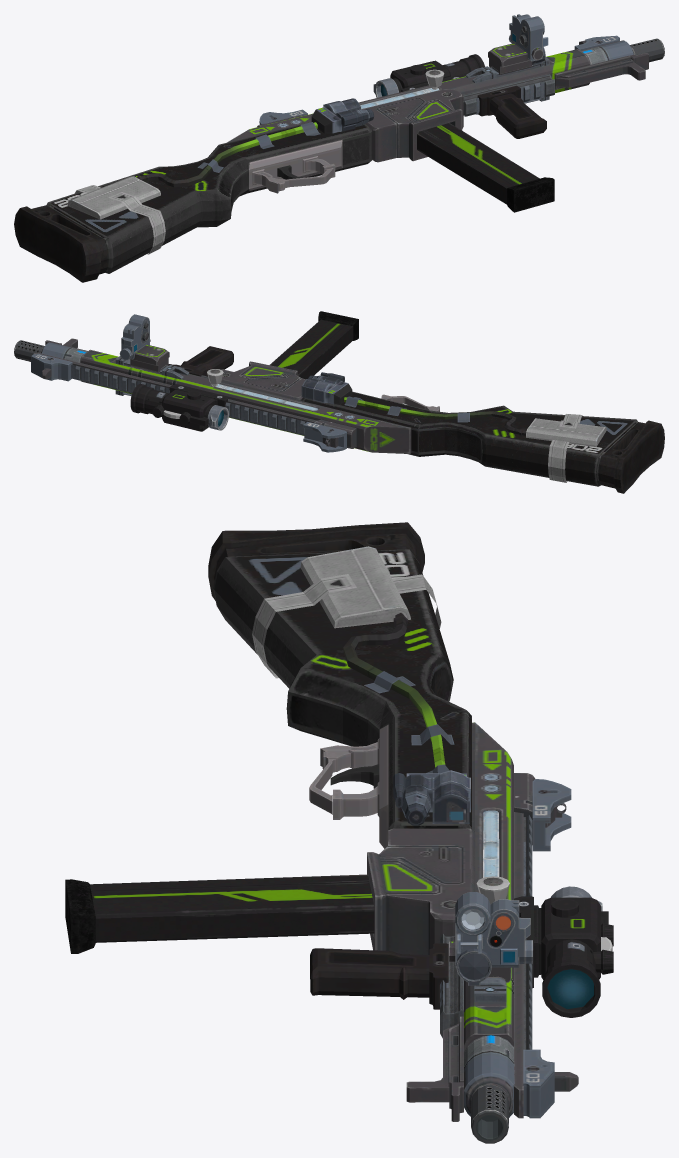
3 views of the same model, one above another, from view 1: azimuth 30°, elevation 25°; view 2: azimuth 150°, elevation 25°; view 3: azimuth 270°, elevation 25° (orthographic). The views are drawn at different scales.
Parts seen in each view (by area): view 1: wp01d_a001a_sm.mo, wp01d_magazine001a_sm.mo, wp01d_attach001a_sm.mo, wp01d_scope001a_sm.mo, wp01d_muzzle001a_sm.mo; view 2: wp01d_a001a_sm.mo, wp01d_scope001a_sm.mo, wp01d_magazine001a_sm.mo, wp01d_attach001a_sm.mo, wp01d_muzzle001a_sm.mo; view 3: wp01d_a001a_sm.mo, wp01d_magazine001a_sm.mo, wp01d_scope001a_sm.mo, wp01d_attach001a_sm.mo, wp01d_muzzle001a_sm.mo.
Part boxes in pixels (x1,y1,x2,y2): wp01d_a001a_sm.mo: [14, 35, 648, 282]; wp01d_magazine001a_sm.mo: [417, 123, 554, 212]; wp01d_attach001a_sm.mo: [488, 14, 548, 74]; wp01d_scope001a_sm.mo: [373, 54, 484, 97]; wp01d_muzzle001a_sm.mo: [630, 38, 664, 62]; wp01d_a001a_sm.mo: [31, 338, 664, 493]; wp01d_scope001a_sm.mo: [130, 383, 228, 431]; wp01d_magazine001a_sm.mo: [269, 311, 358, 379]; wp01d_attach001a_sm.mo: [119, 314, 169, 372]; wp01d_muzzle001a_sm.mo: [14, 340, 44, 361]; wp01d_a001a_sm.mo: [208, 522, 578, 1121]; wp01d_magazine001a_sm.mo: [65, 874, 374, 953]; wp01d_scope001a_sm.mo: [514, 886, 613, 1017]; wp01d_attach001a_sm.mo: [449, 892, 532, 985]; wp01d_muzzle001a_sm.mo: [471, 1085, 508, 1143].
Size of the model in its own units: 0.7012 by 0.0861 by 0.284.
Materials: 5 (5 with a texture image).
